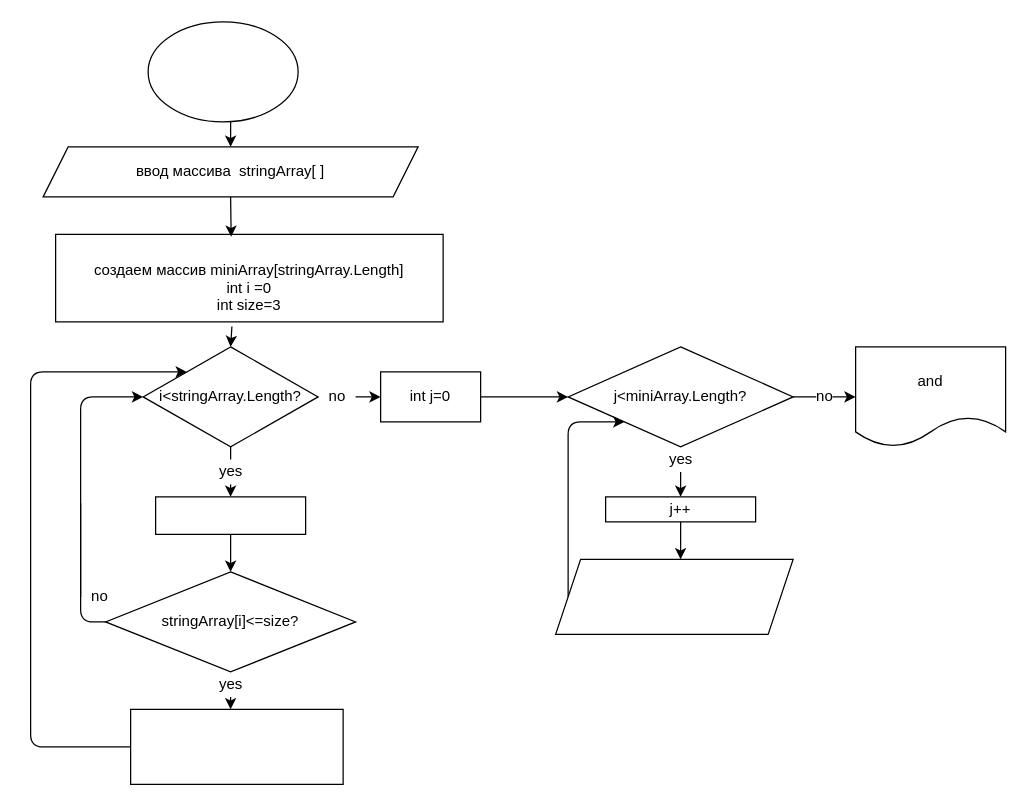
Some shapes in this 1028 by 806 pixel diagram are drawn without their labels. Here are the shapes that lost their labels. From the top down, the centre of each, then its label:
the point at 222,71: start
the point at 230,515: i++
the point at 673,596: console.Write( miniArray [j] )
the point at 236,746: miniArray[icount]=array[i] count++
